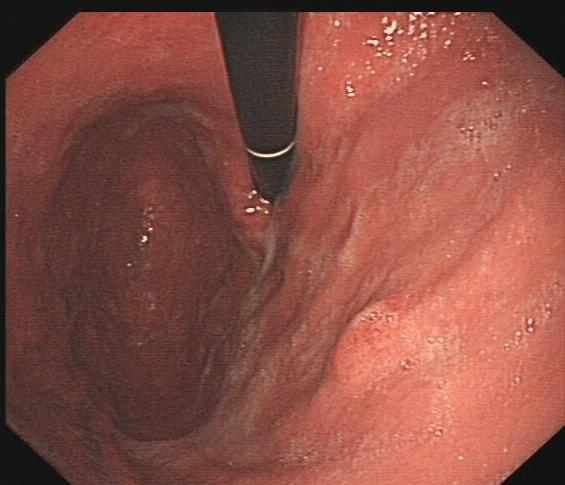Polyp: (328, 290, 409, 383)
